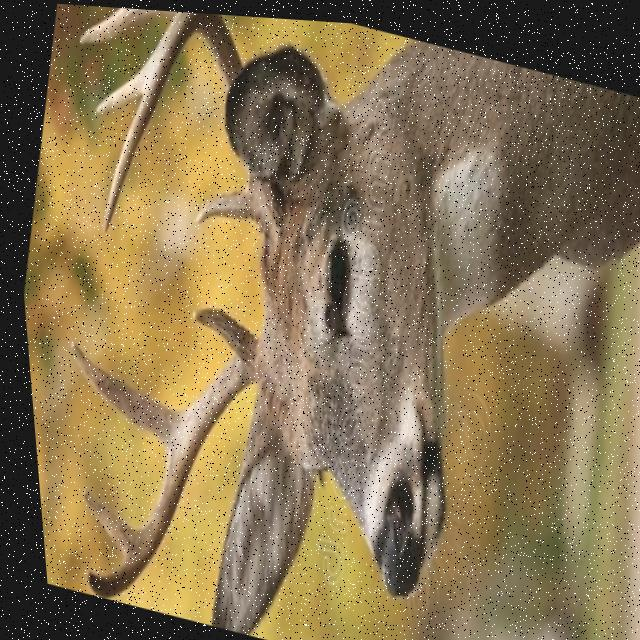L-G1: (190, 185, 251, 227)
L-G2: (76, 6, 176, 47)
L-G3: (92, 56, 148, 114)
R-F: (75, 327, 253, 599)
R-G1: (186, 304, 243, 352)
R-G2: (62, 337, 178, 455)
R-G3: (72, 485, 127, 556)
